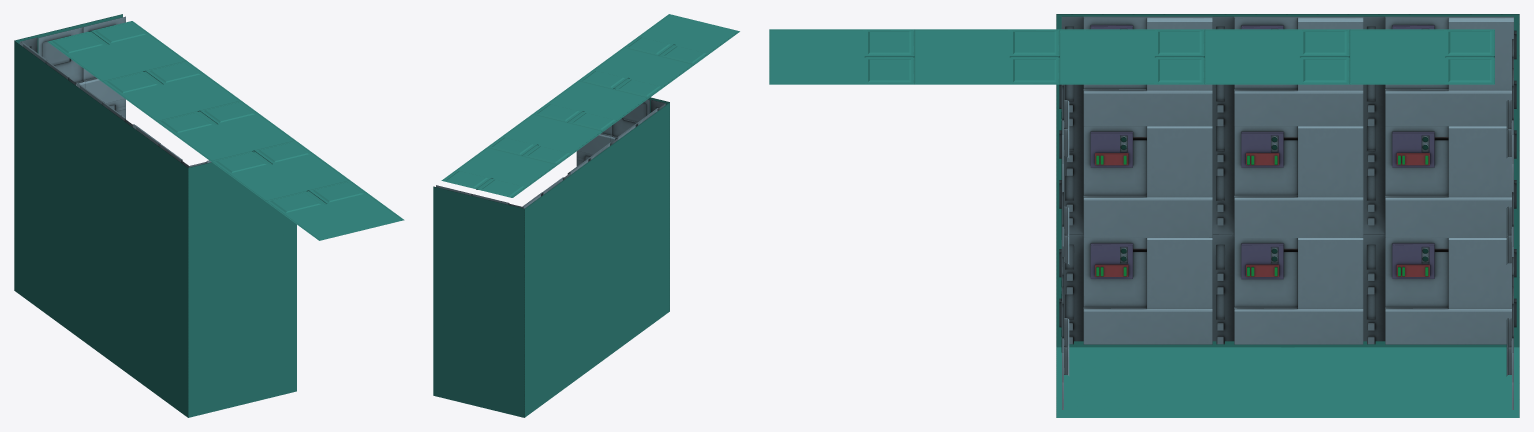
Rendered from sc_lvl1_floortile_21.FBX.
3 views of the same model, side by side, from view 1: azimuth 30°, elevation 25°; view 2: azimuth 150°, elevation 25°; view 3: azimuth 270°, elevation 25° (orthographic). The views are drawn at different scales.
Parts seen in each view (by area): view 1: sc_lvl1_floortile_depthMask_L, sc_lvl1_floortile_riser_L, sc_lvl1_floortile_021, sc_lvl1_floortile_underground_L; view 2: sc_lvl1_floortile_depthMask_L, sc_lvl1_floortile_riser_L, sc_lvl1_floortile_021, sc_lvl1_floortile_underground_L; view 3: sc_lvl1_floortile_underground_L, sc_lvl1_floortile_depthMask_L, sc_lvl1_floortile_riser_L, sc_lvl1_floortile_021.
Part boxes in pixels (x1,y1,x2,y2): sc_lvl1_floortile_depthMask_L: (14, 14, 296, 417); sc_lvl1_floortile_riser_L: (47, 21, 285, 154); sc_lvl1_floortile_021: (201, 133, 404, 240); sc_lvl1_floortile_underground_L: (19, 16, 211, 167); sc_lvl1_floortile_depthMask_L: (433, 88, 669, 417); sc_lvl1_floortile_riser_L: (441, 86, 641, 197); sc_lvl1_floortile_021: (570, 14, 739, 103); sc_lvl1_floortile_underground_L: (436, 99, 665, 208); sc_lvl1_floortile_underground_L: (1059, 16, 1516, 409); sc_lvl1_floortile_depthMask_L: (1056, 14, 1519, 417); sc_lvl1_floortile_riser_L: (1084, 29, 1494, 84); sc_lvl1_floortile_021: (769, 29, 1084, 84).
Size of the model in its own units: 23.07 by 50.81 by 103.
